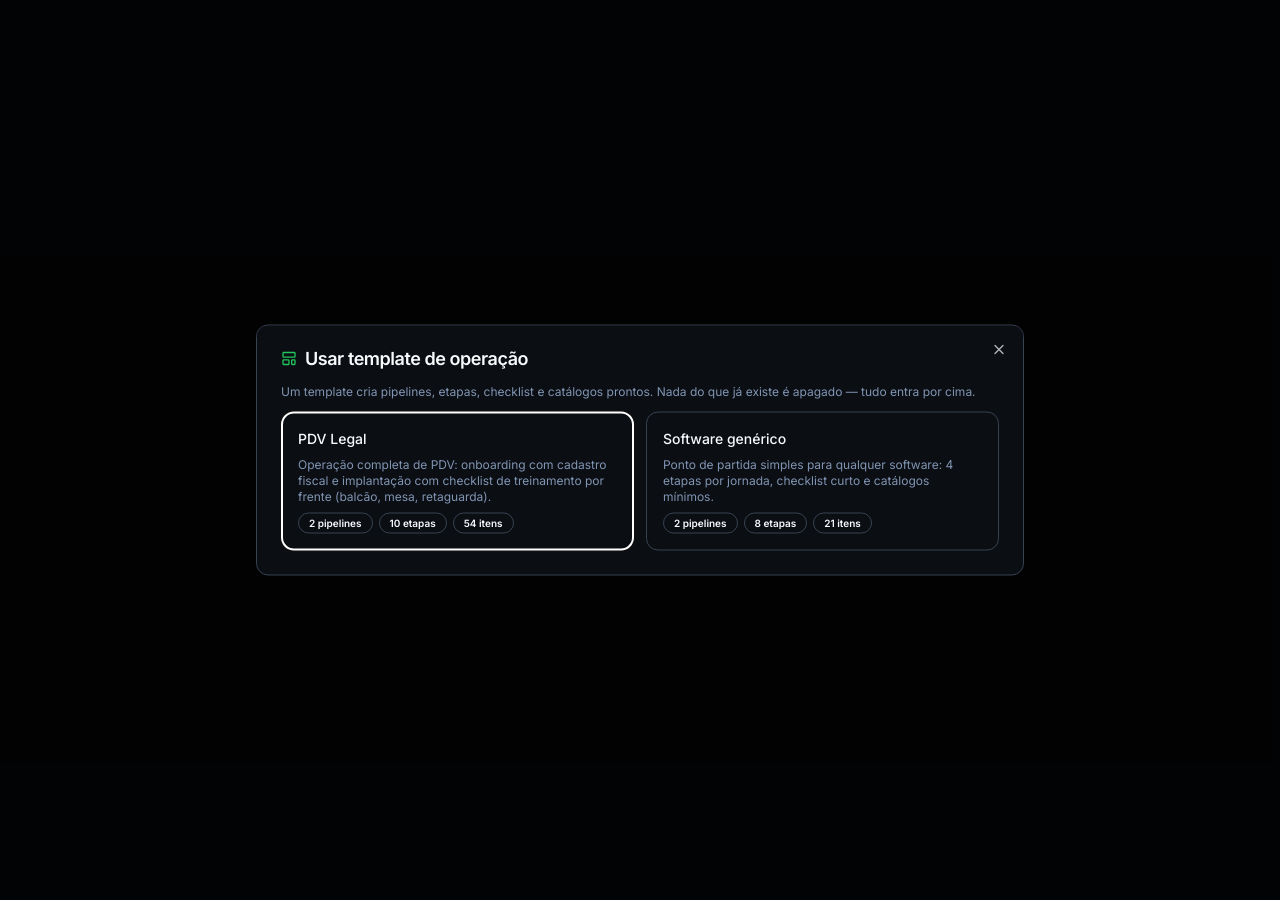
ApplyTemplateDialog › escolher PDV Legal → revisar → aplicar manda o blueprint inteiro com o produto amarrado
Later steps or results of the test are not shown.
Click the button that starts with "PDV Legal".
click(458, 481)  # box [281,412,634,550]
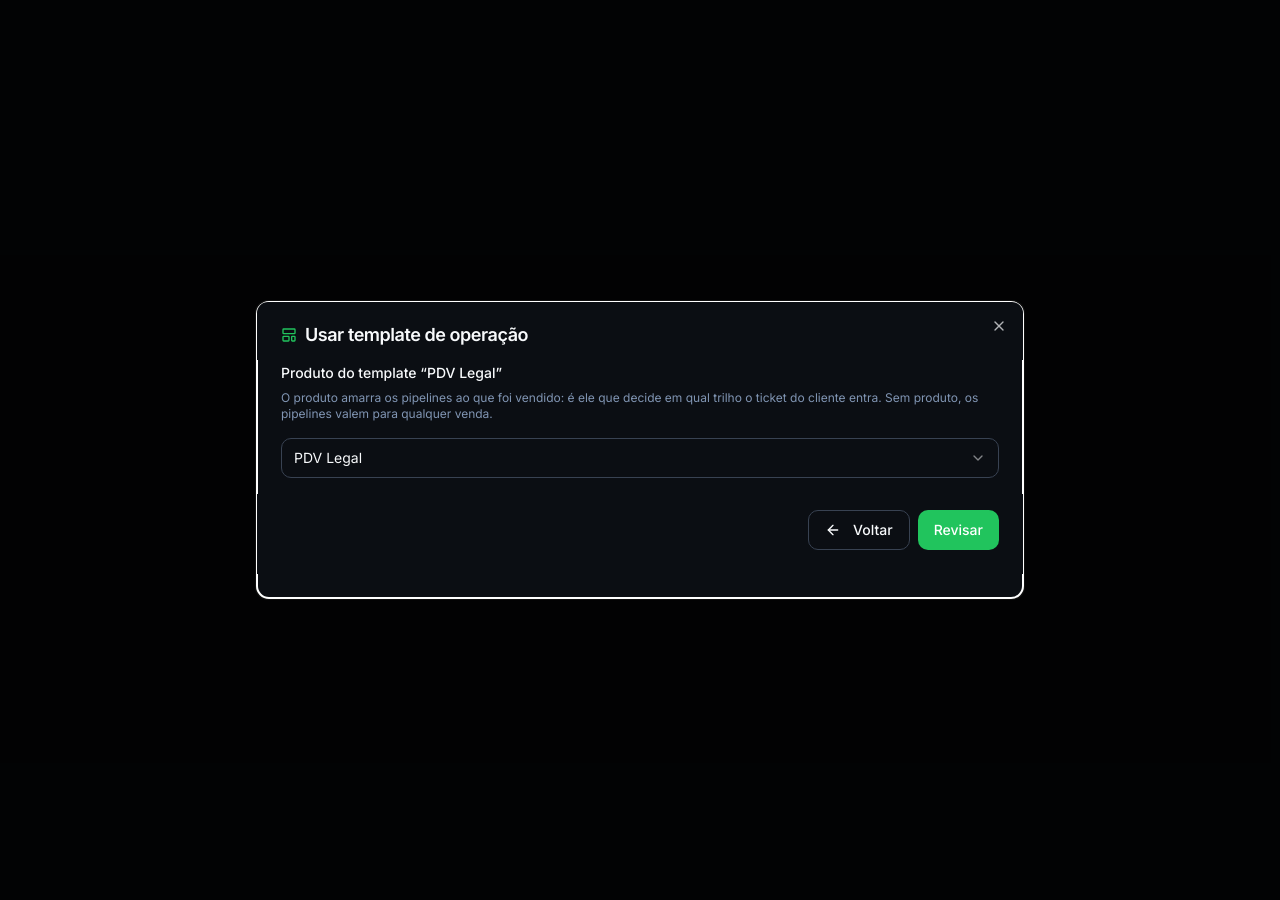
Check: the text "Produto do template" is shown, box [281,364,427,381]
Click the button "Revisar".
click(958, 530)  # box [918,510,999,550]
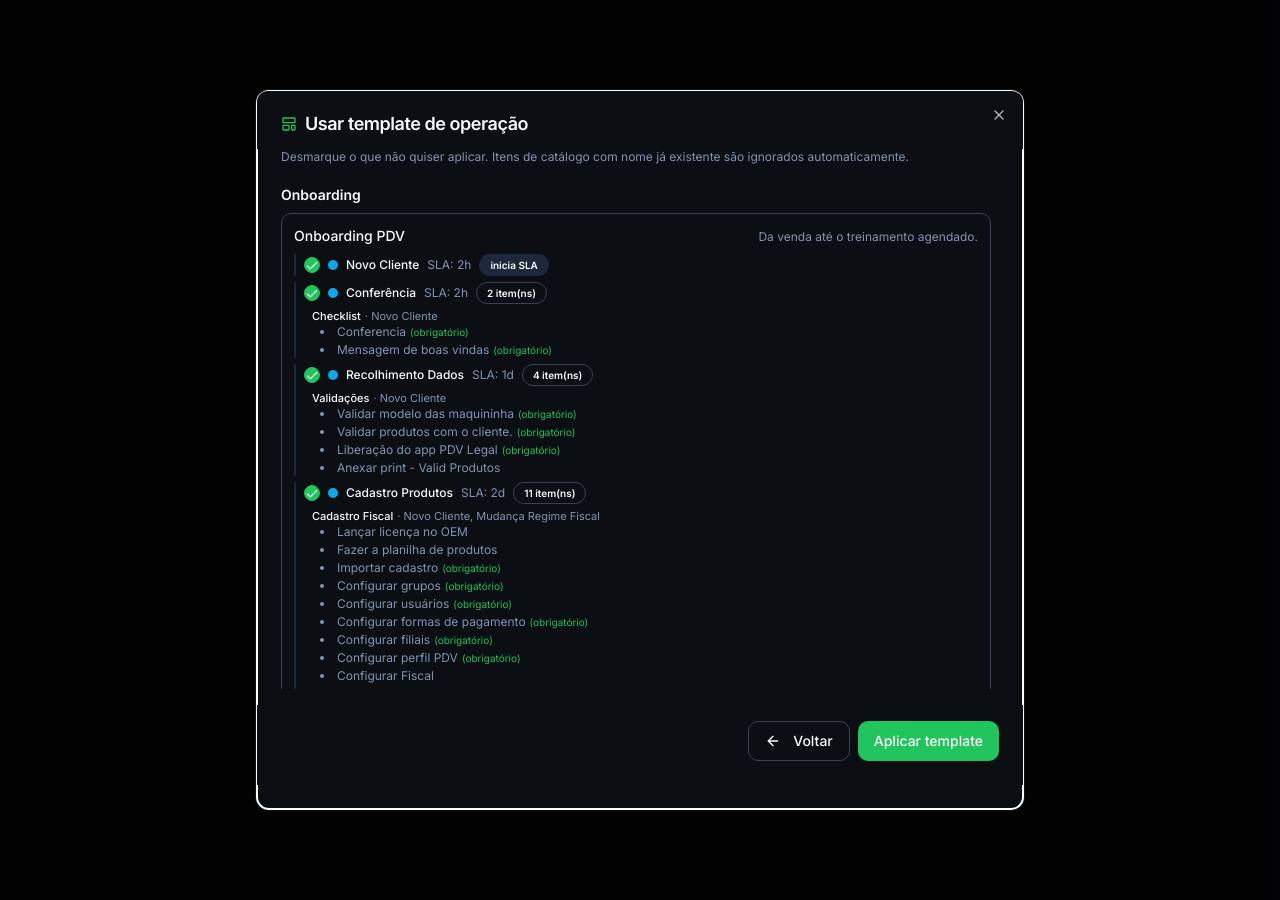
Check: the text "inicia SLA" is shown, box [479,254,549,276]
